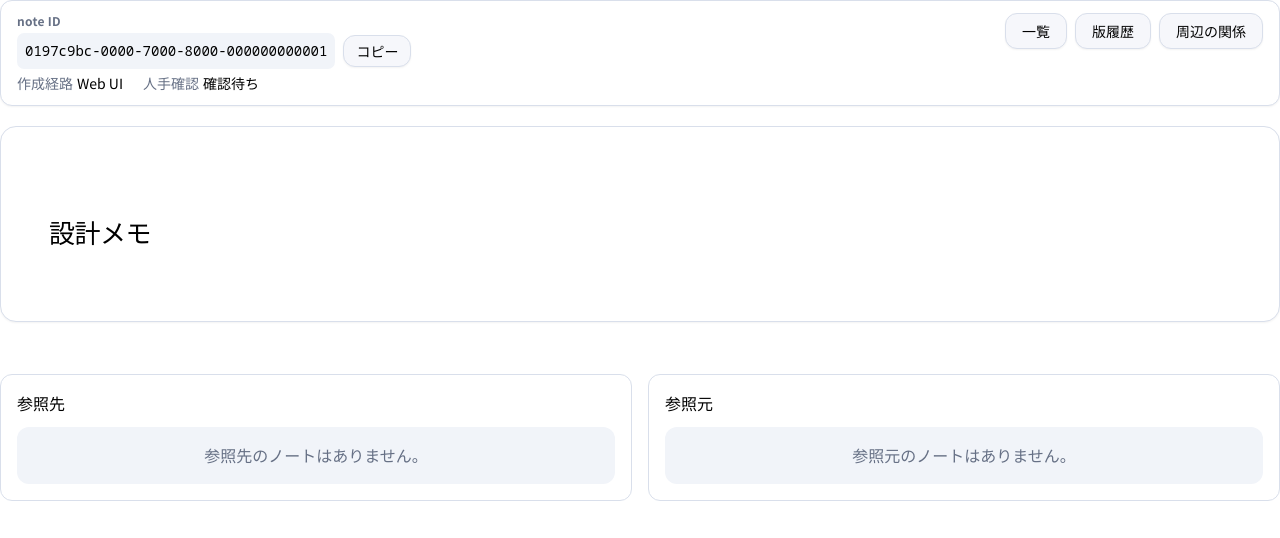
Scenario: Application › note IDをコピーできない場合に失敗を通知する
The width and height of the screenshot is (1280, 538).
Click the button with aria-label "note IDをコピー" at (377, 51), box [343,35,411,67]
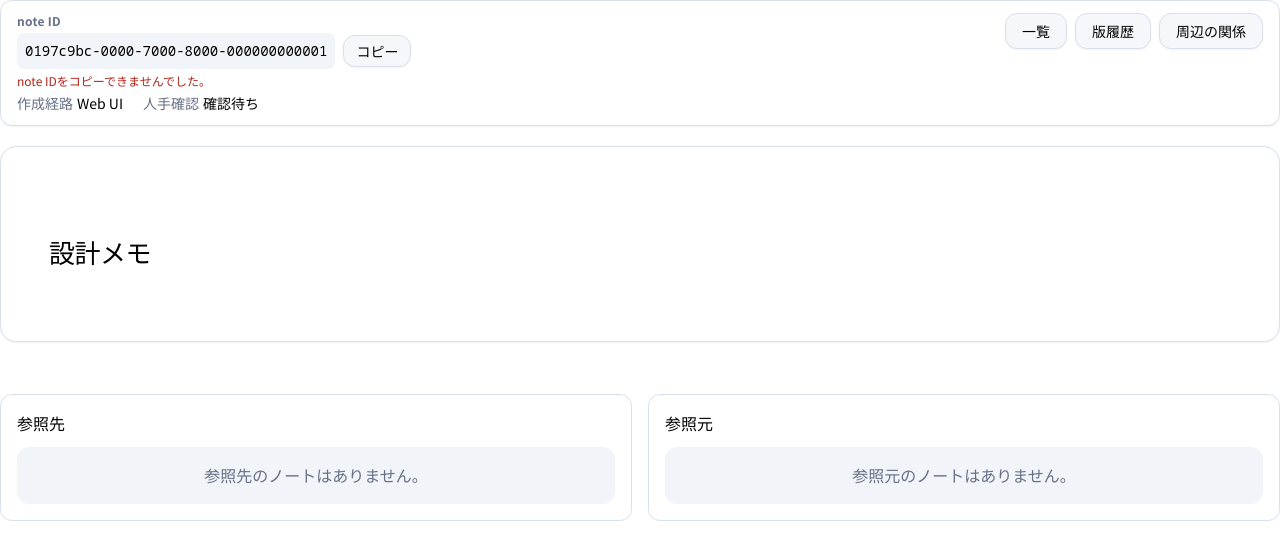
Now the message "note IDをコピーできませんでした。" is shown, box [17,72,211,89]
